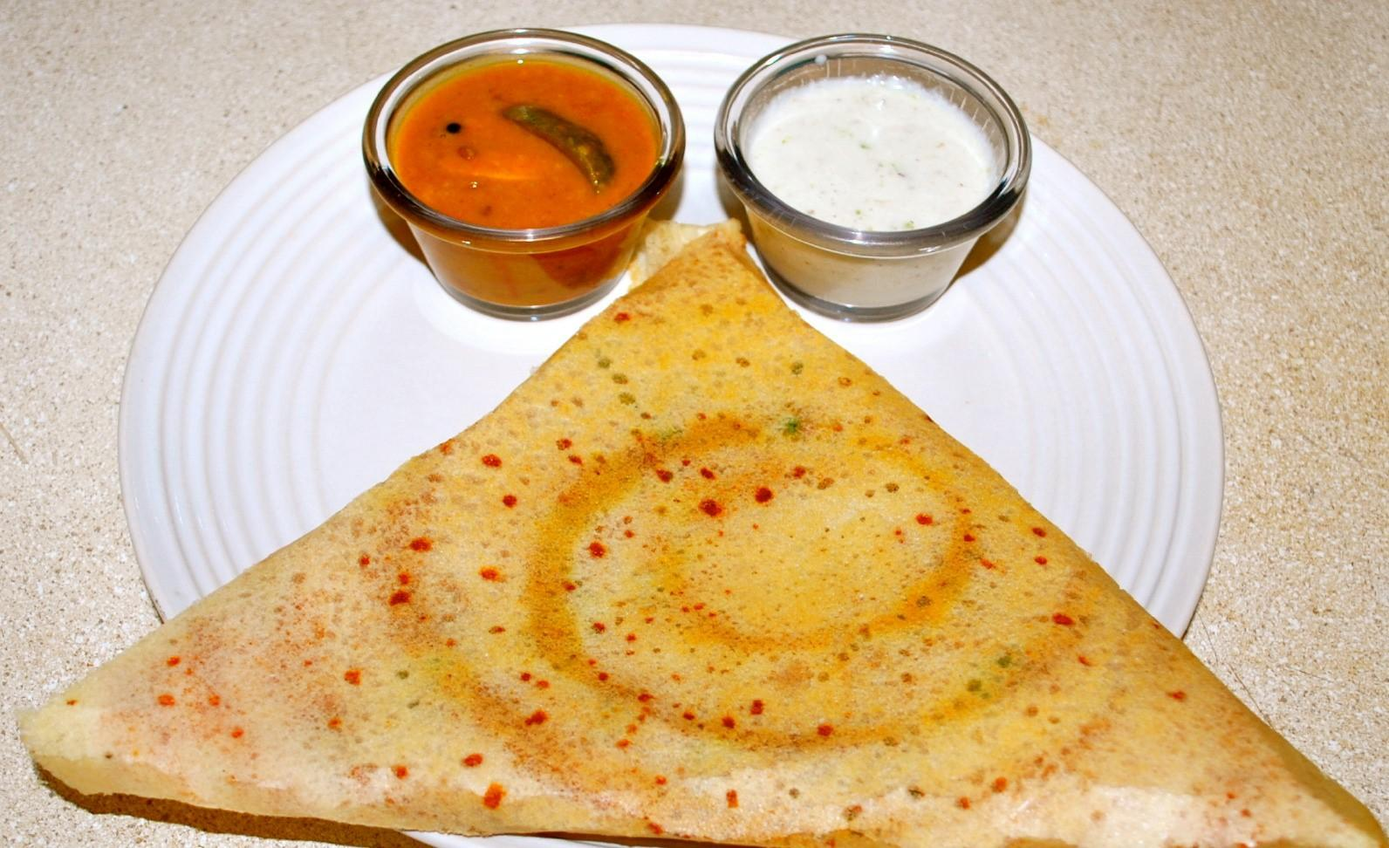CoconutChutney: (745, 73, 1007, 231)
Dosa: (23, 218, 1389, 848)
